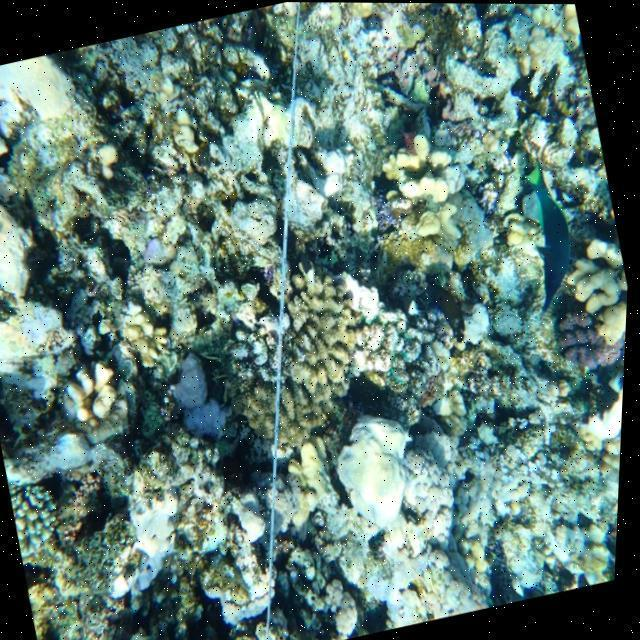Bleached Coral: (239, 45, 412, 236), (304, 426, 494, 586), (72, 480, 233, 610), (0, 200, 85, 396), (341, 240, 429, 388), (0, 57, 65, 210), (216, 456, 298, 570)
